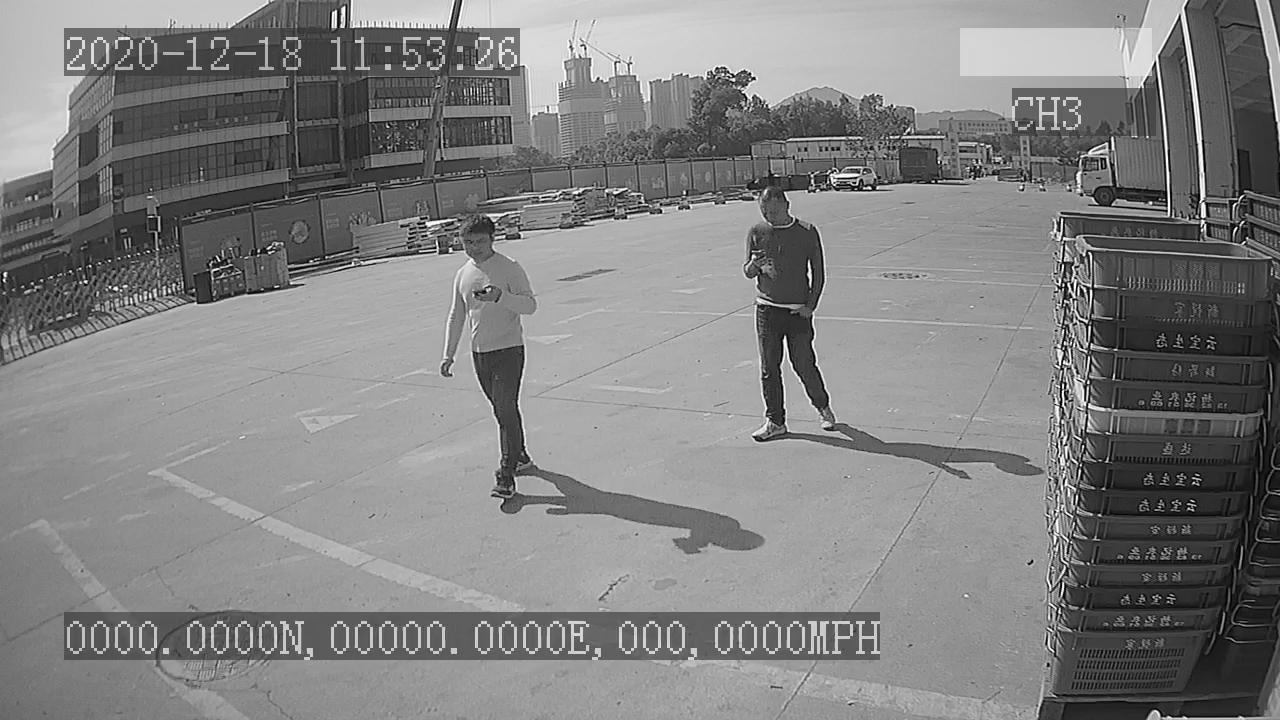person: (429, 211, 540, 517), (736, 179, 847, 445)
